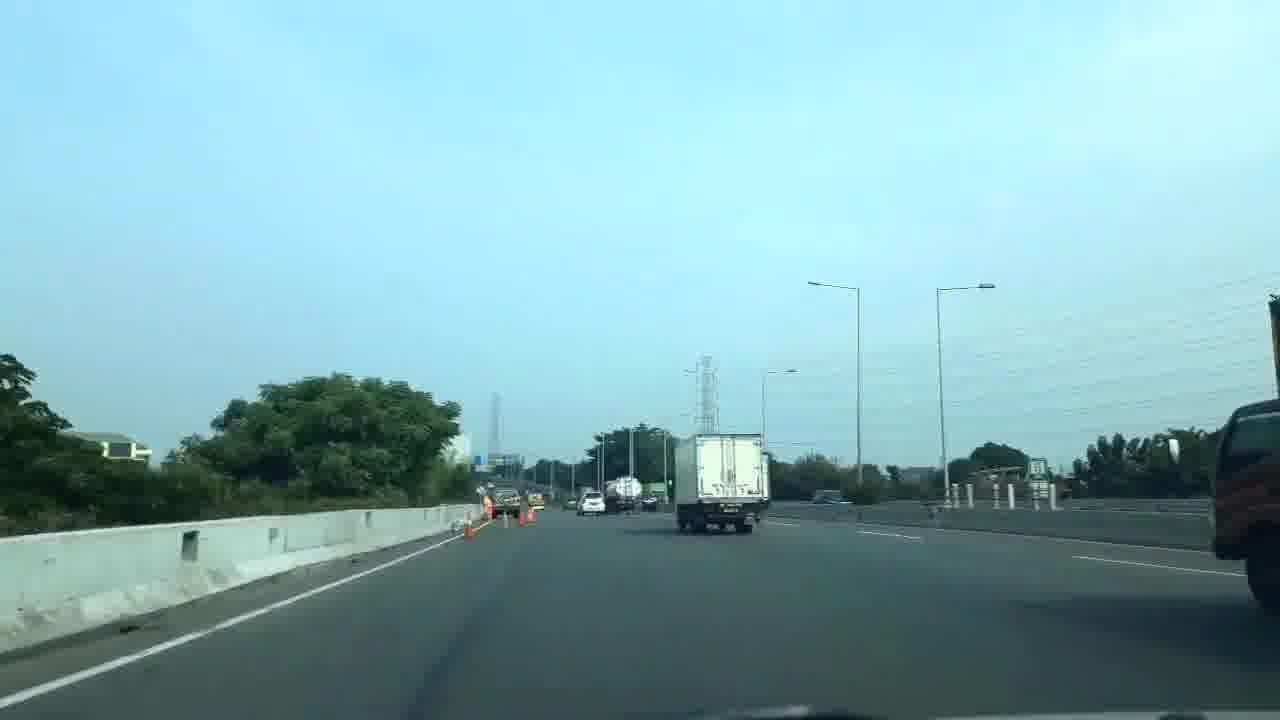plate_positive: (722, 507, 741, 513)
